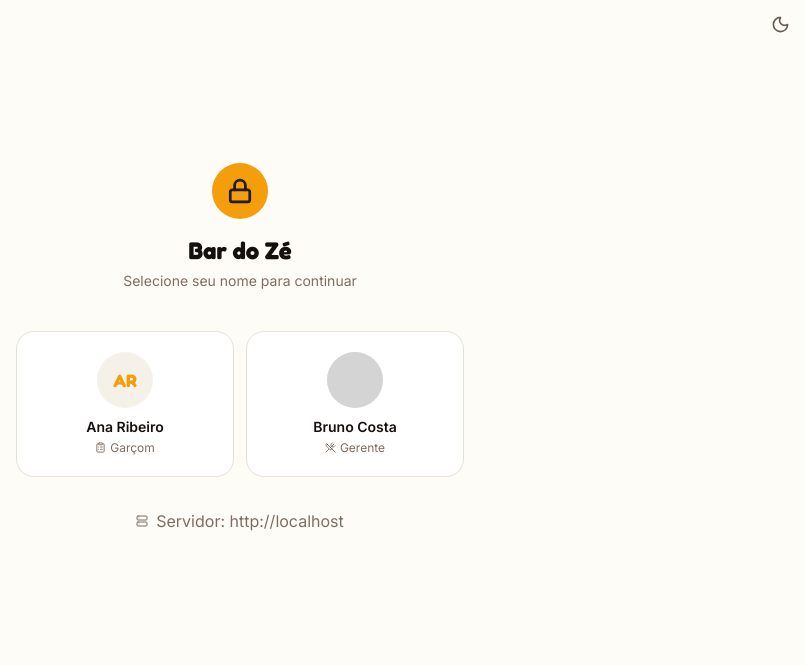
Scenario: LoginPagePin — PIN › PIN incorreto mostra erro e limpa o campo
The image size is (806, 665).
Click the text "Ana Ribeiro" at [125, 427], box [86,418,164,436]
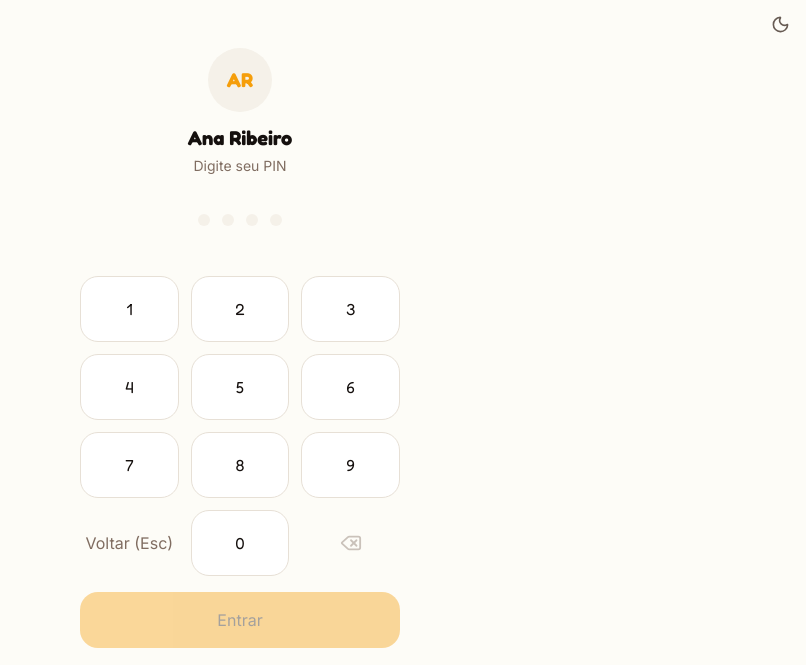
Click the button "9" at [351, 465], box [301,432,400,498]
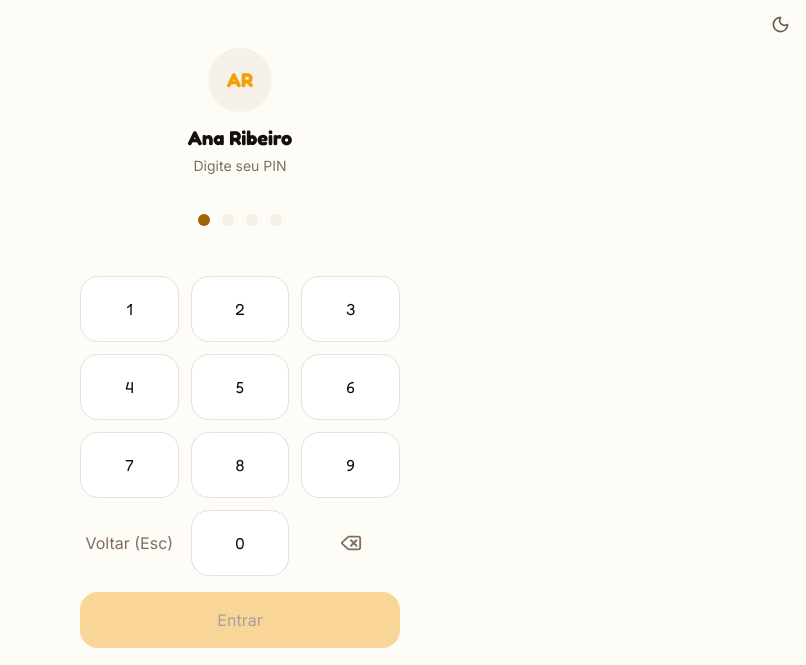
Click the button "9" at [351, 465], box [301,432,400,498]
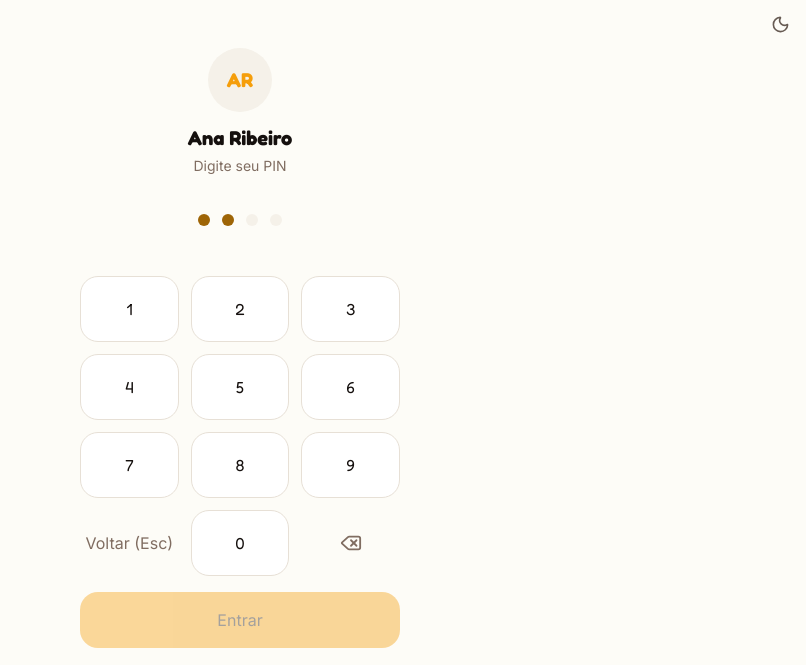
Click the button "9" at [351, 465], box [301,432,400,498]
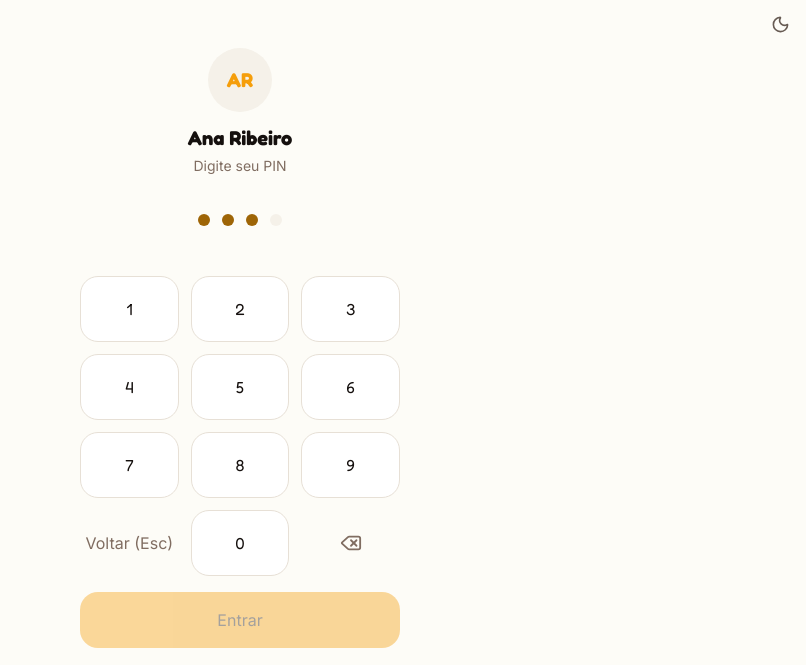
Click the button "9" at [351, 465], box [301,432,400,498]
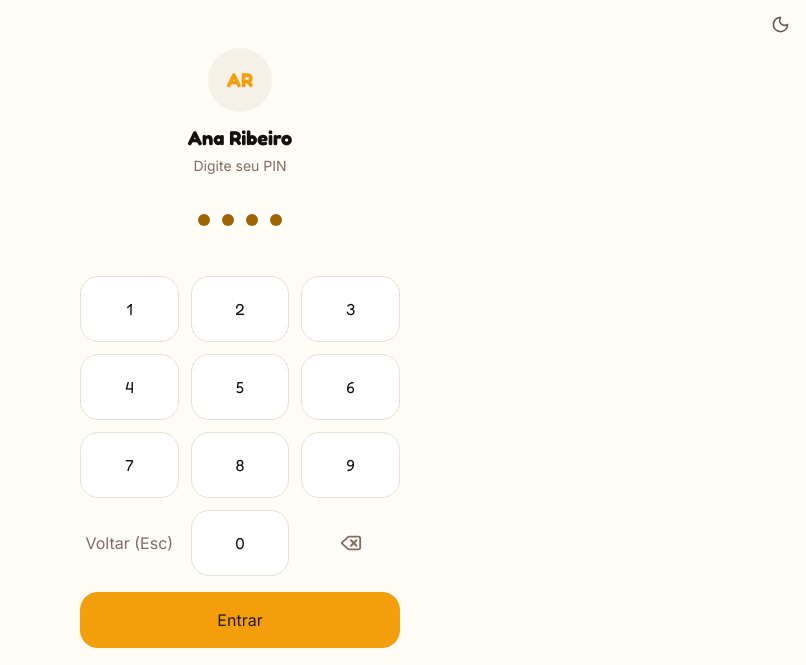
Click the button "Entrar" at [240, 620], box [80,592,400,648]
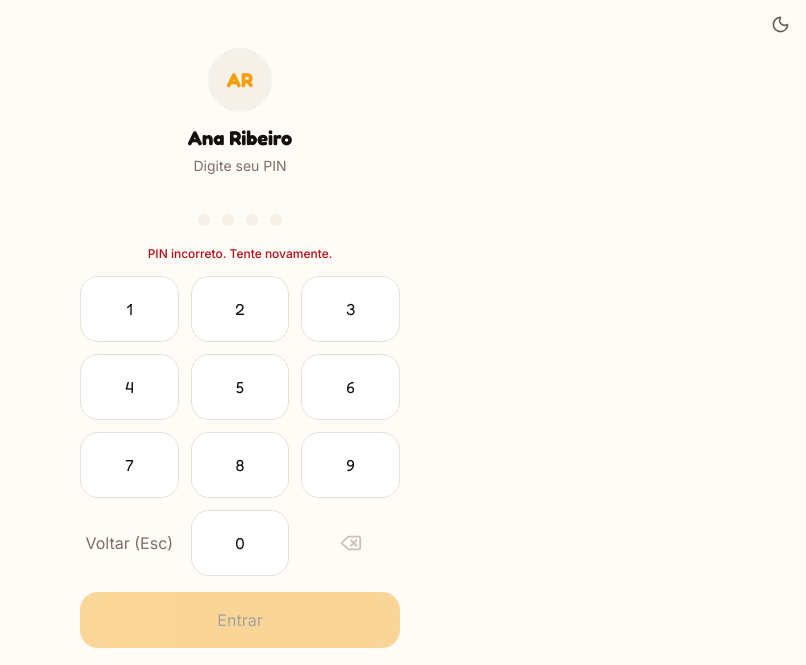
Check: the element labelled "PIN" is empty, box [80,48,400,648]
Check: the text "PIN incorreto. Tente novamente." is shown, box [148,246,332,261]
